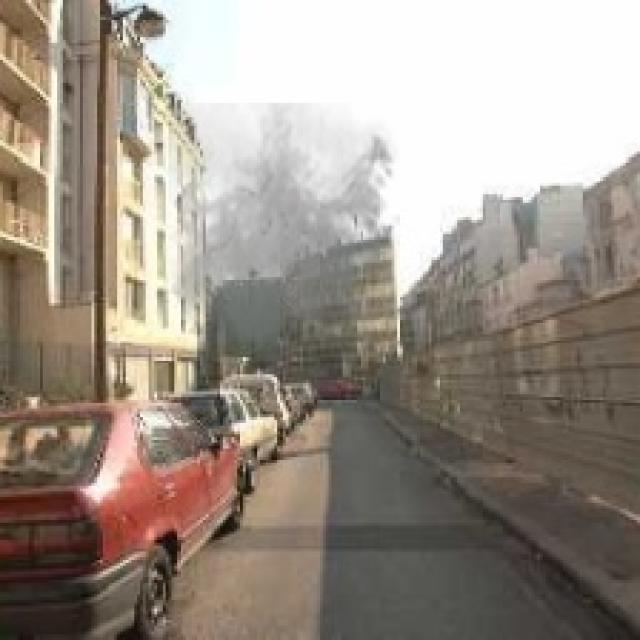Smoke: (168, 103, 400, 366)
